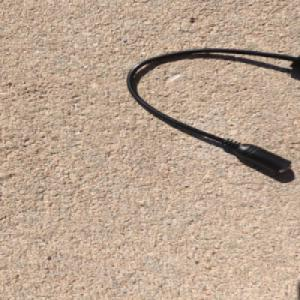Wire: (123, 46, 300, 174)
